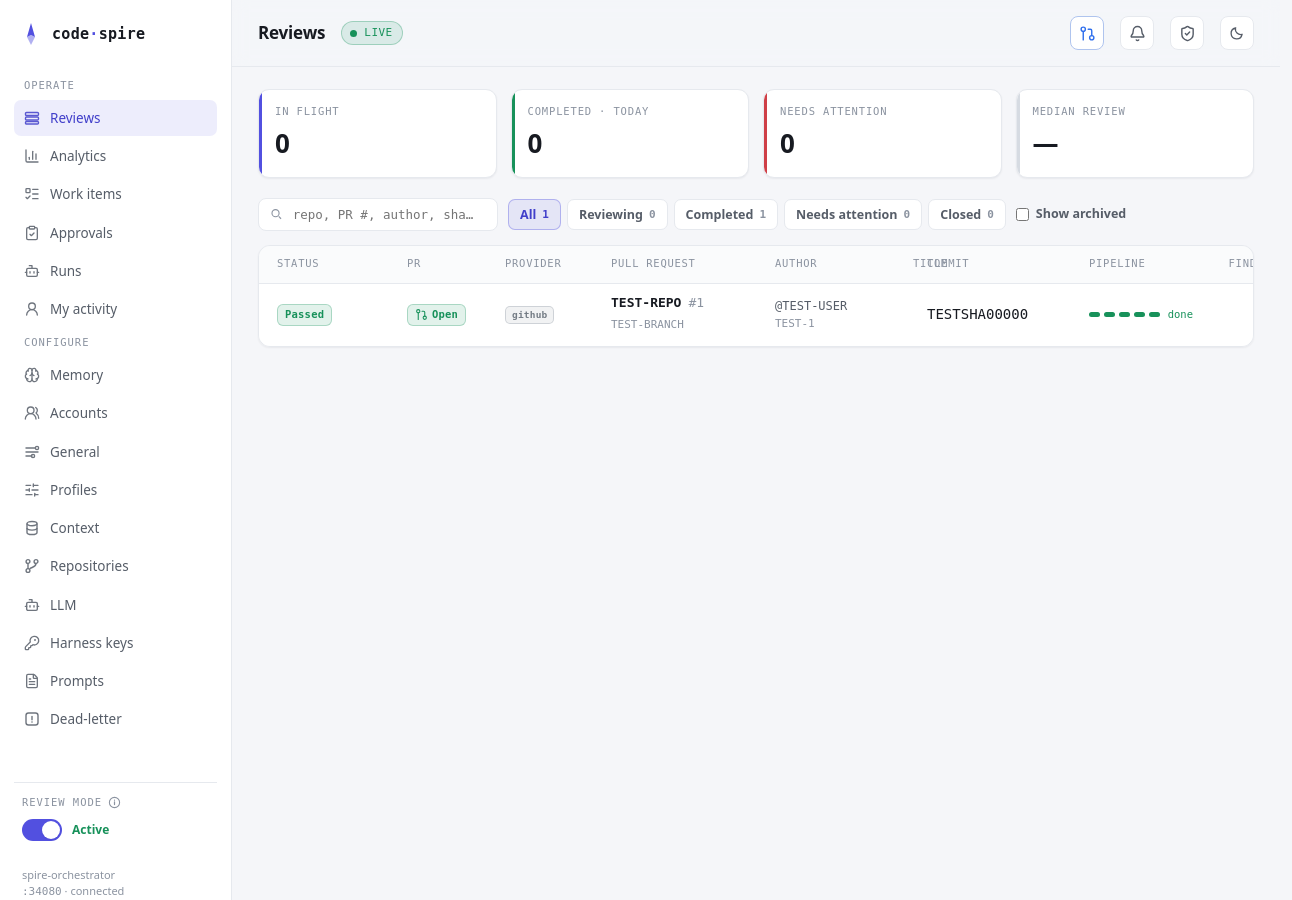
Test: App — Show archived › drops the archived rows again when the box is cleared
expect the text "#1" is shown: met, box left=688, top=293, right=704, bottom=312
Click the checkbox labelled "Show archived" at (1022, 214), box left=1016, top=208, right=1029, bottom=221
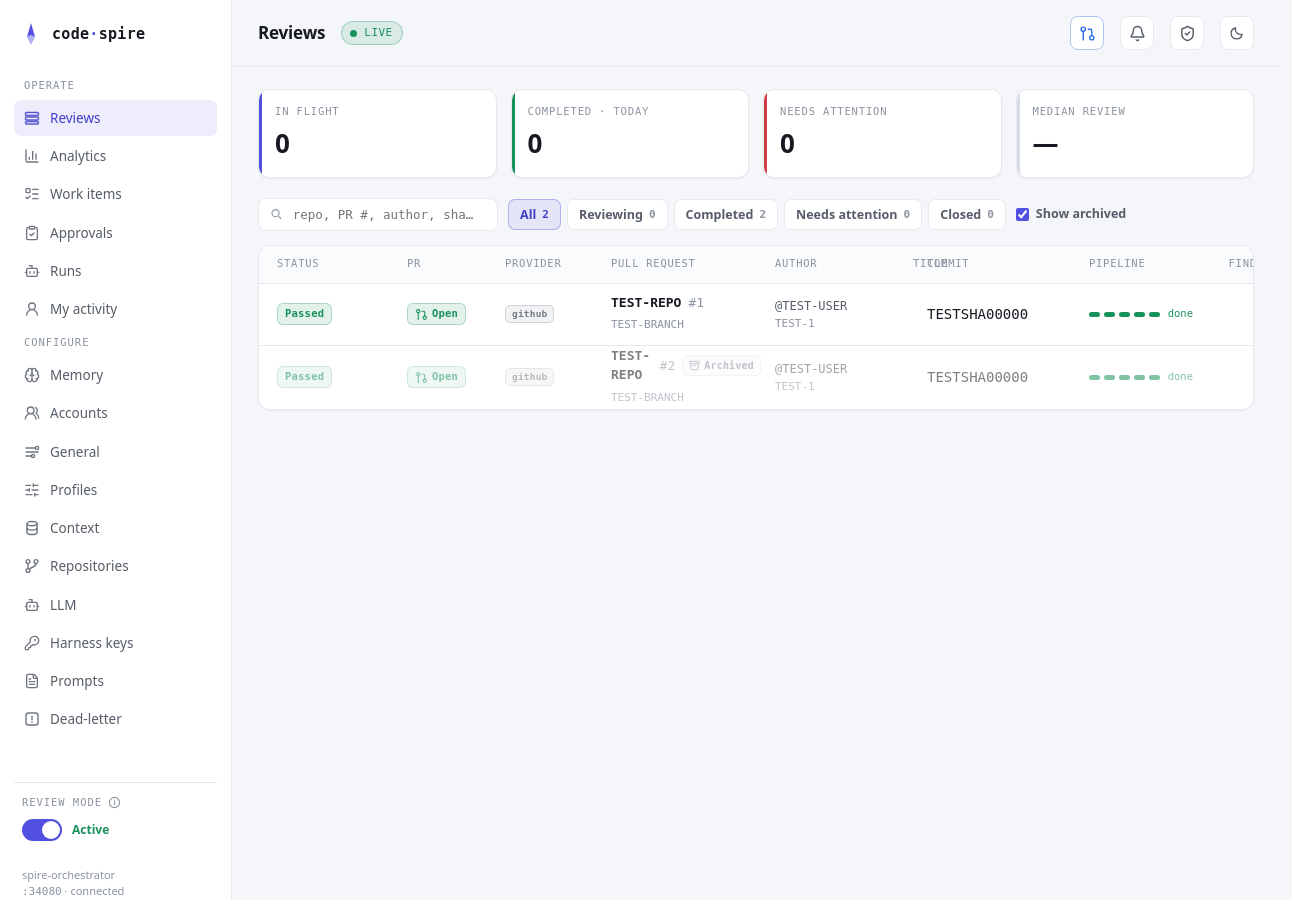
expect the text "#2" is shown: met, box left=660, top=356, right=675, bottom=375
Click the checkbox labelled "Show archived" at (1022, 214), box left=1016, top=208, right=1029, bottom=221
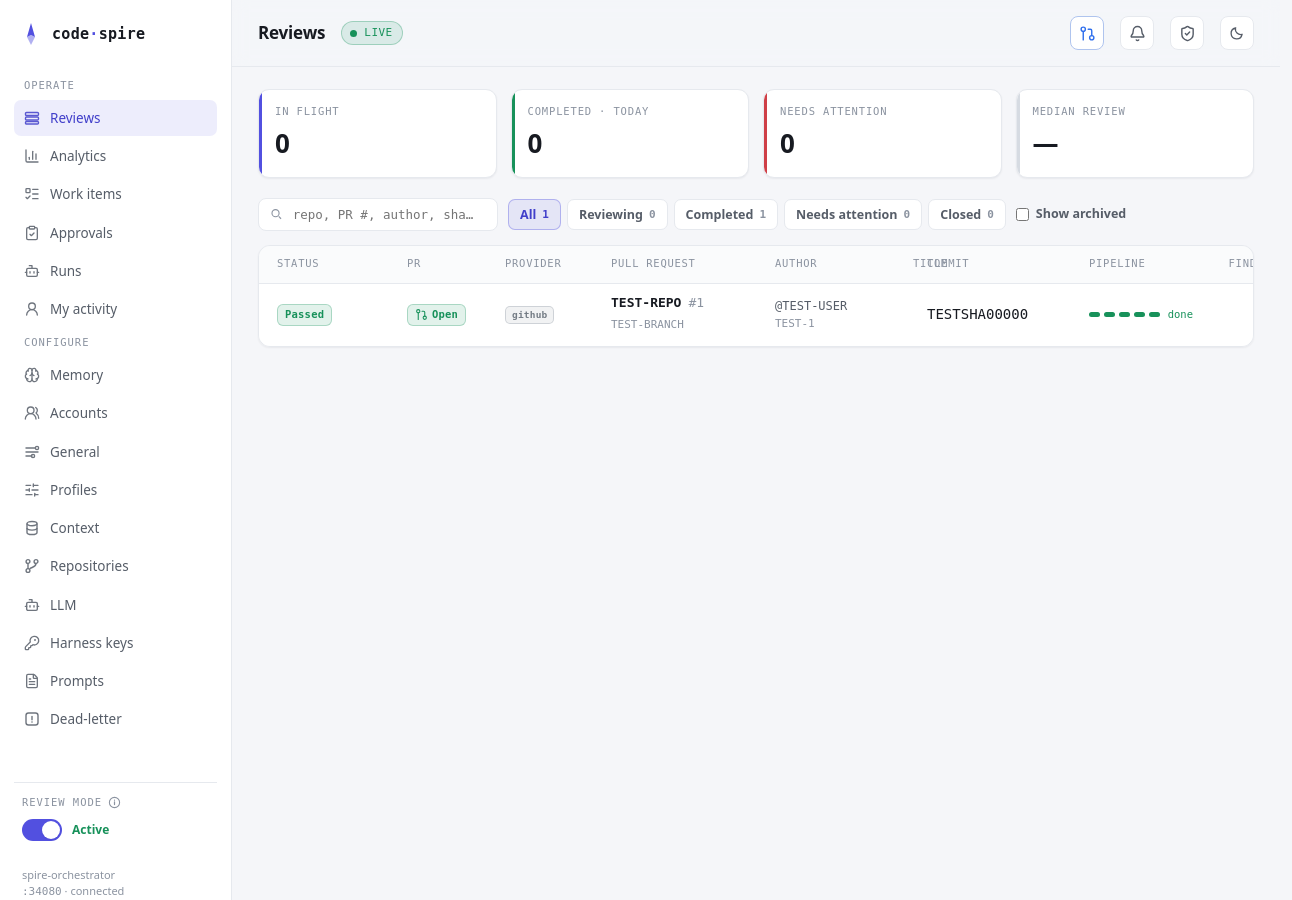
expect the text "#1" is shown: met, box left=688, top=293, right=704, bottom=312
expect the button "#2" is gone: met
